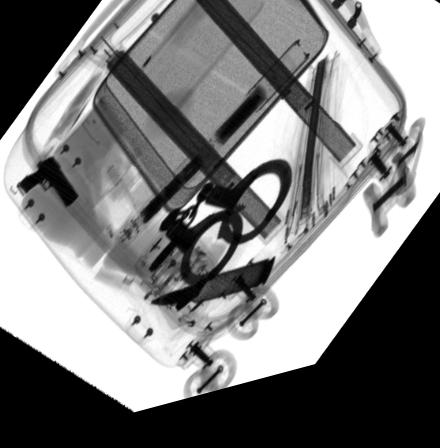Baton: (113, 52, 312, 255)
Bullet: (150, 270, 276, 314)
Gun: (14, 157, 80, 213)
HandCuffs: (158, 175, 294, 295)
